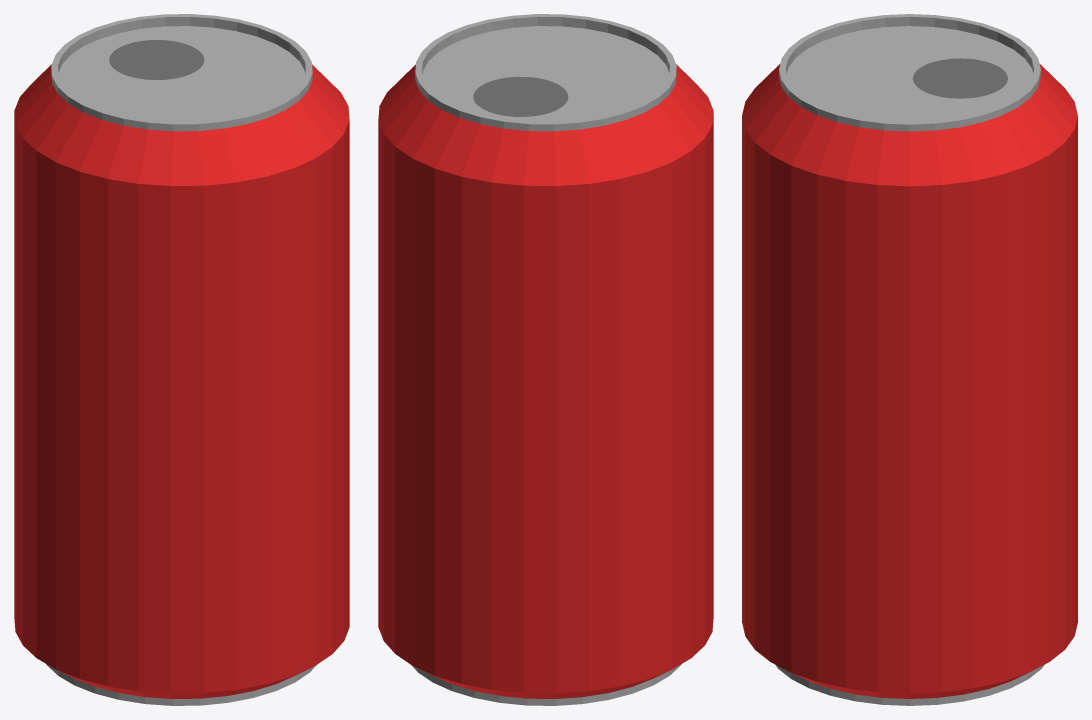
File: Lata.glb
3 renders of one model, left to right at view 1: azimuth 30°, elevation 25°; view 2: azimuth 150°, elevation 25°; view 3: azimuth 270°, elevation 25°, orthographic.
Visible parts, largest first — view 1: Cylinder; view 2: Cylinder; view 3: Cylinder.
Part boxes in pixels (left/top/right/bottom): Cylinder: left=14, top=14, right=349, bottom=705; Cylinder: left=378, top=14, right=713, bottom=705; Cylinder: left=742, top=14, right=1077, bottom=705.
Bounding box in the file's own units: 0.066 × 0.125 × 0.066.
